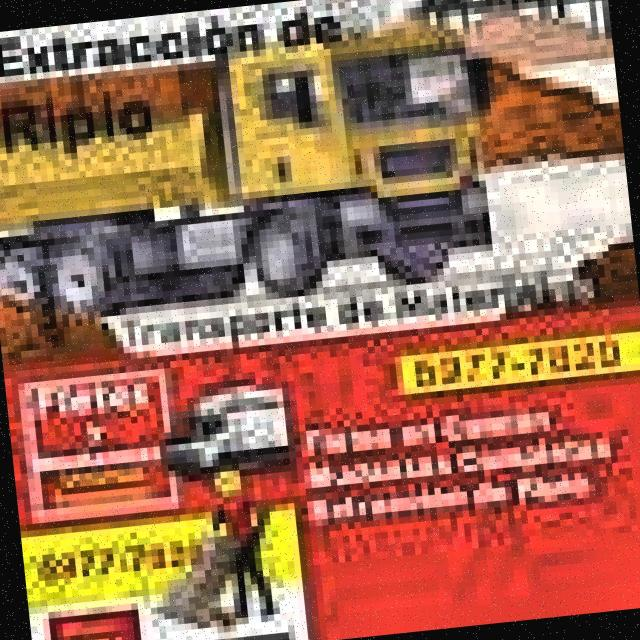dump_truck: (0, 8, 503, 340)
